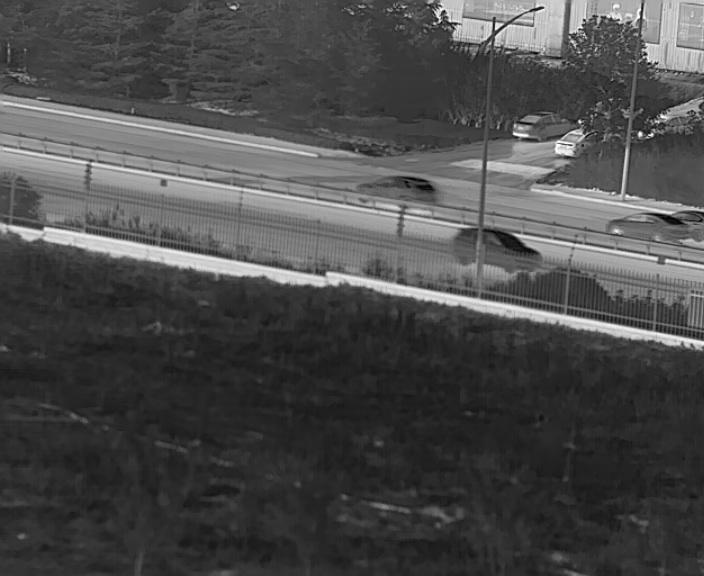vehicle: (452, 227, 541, 270), (355, 175, 434, 205), (607, 212, 685, 242), (512, 109, 565, 139), (554, 128, 595, 158)
